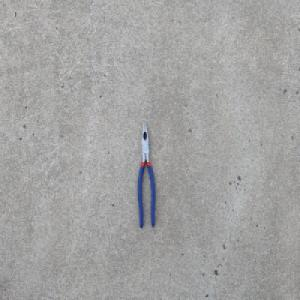Pliers: (136, 121, 156, 230)
